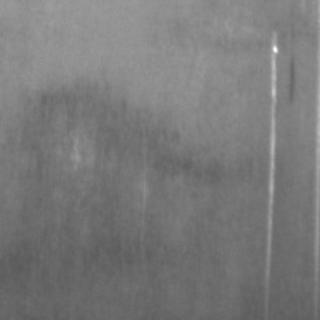scratches: (259, 24, 283, 278)
